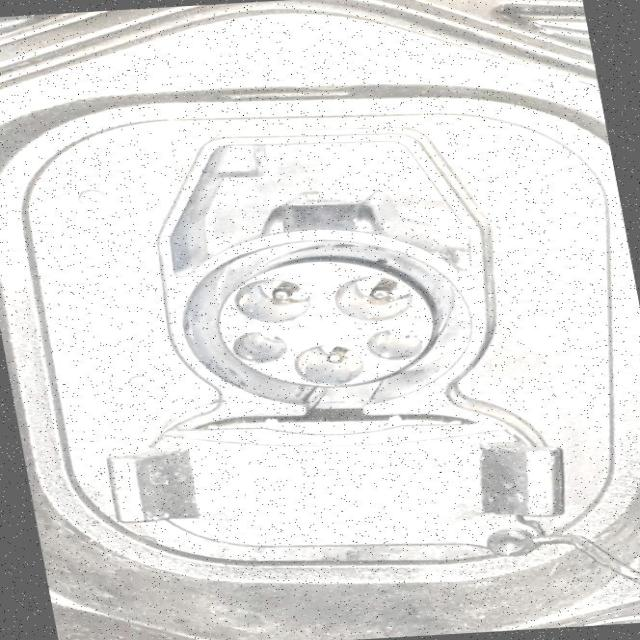Type 1: (152, 224, 518, 402)
